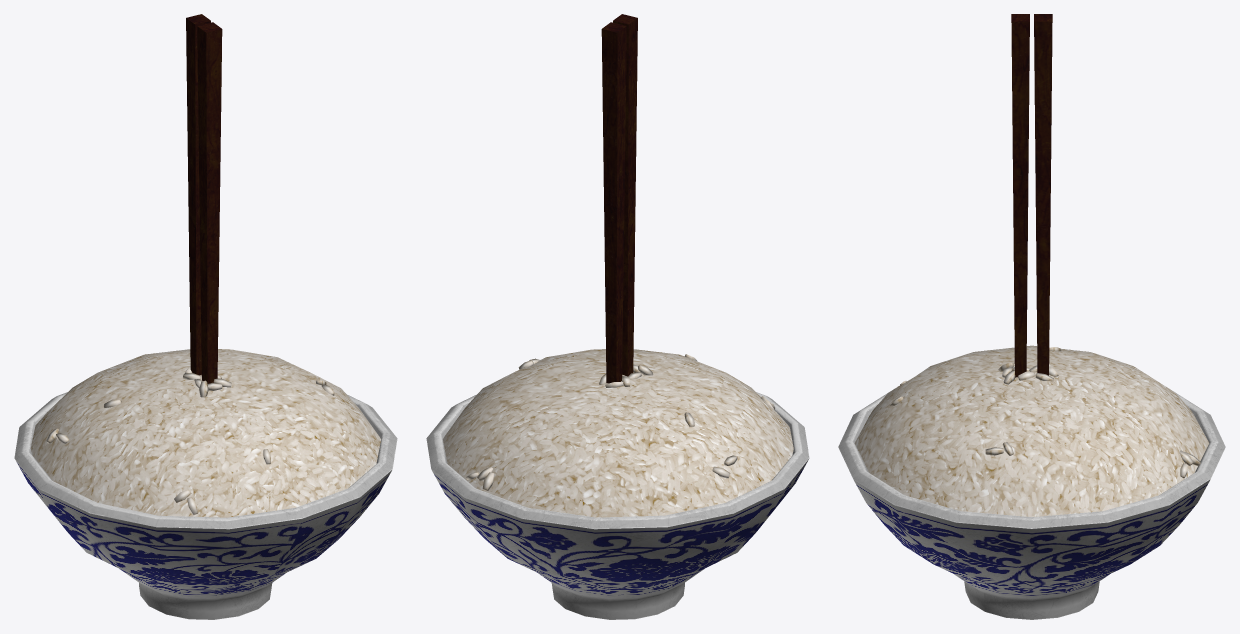
File: rice_funeral_offerings_final.FBX
3 renders of one model, left to right at view 1: azimuth 30°, elevation 25°; view 2: azimuth 150°, elevation 25°; view 3: azimuth 270°, elevation 25°, orthographic.
Parts seen in each view (by area): view 1: Teapot001; view 2: Teapot001; view 3: Teapot001.
Boxes of the visible parts, x1,y1,x2,y2 form: Teapot001: [14, 14, 397, 619]; Teapot001: [426, 14, 809, 619]; Teapot001: [838, 14, 1225, 619].
Size of the model in its own units: 0.1671 by 0.1671 by 0.2726.
Materials: 1 (1 with a texture image).
